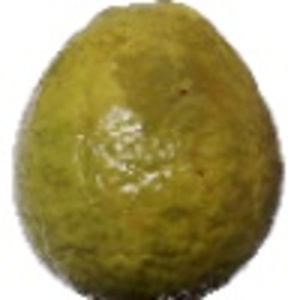goiaba: (11, 6, 280, 297)
